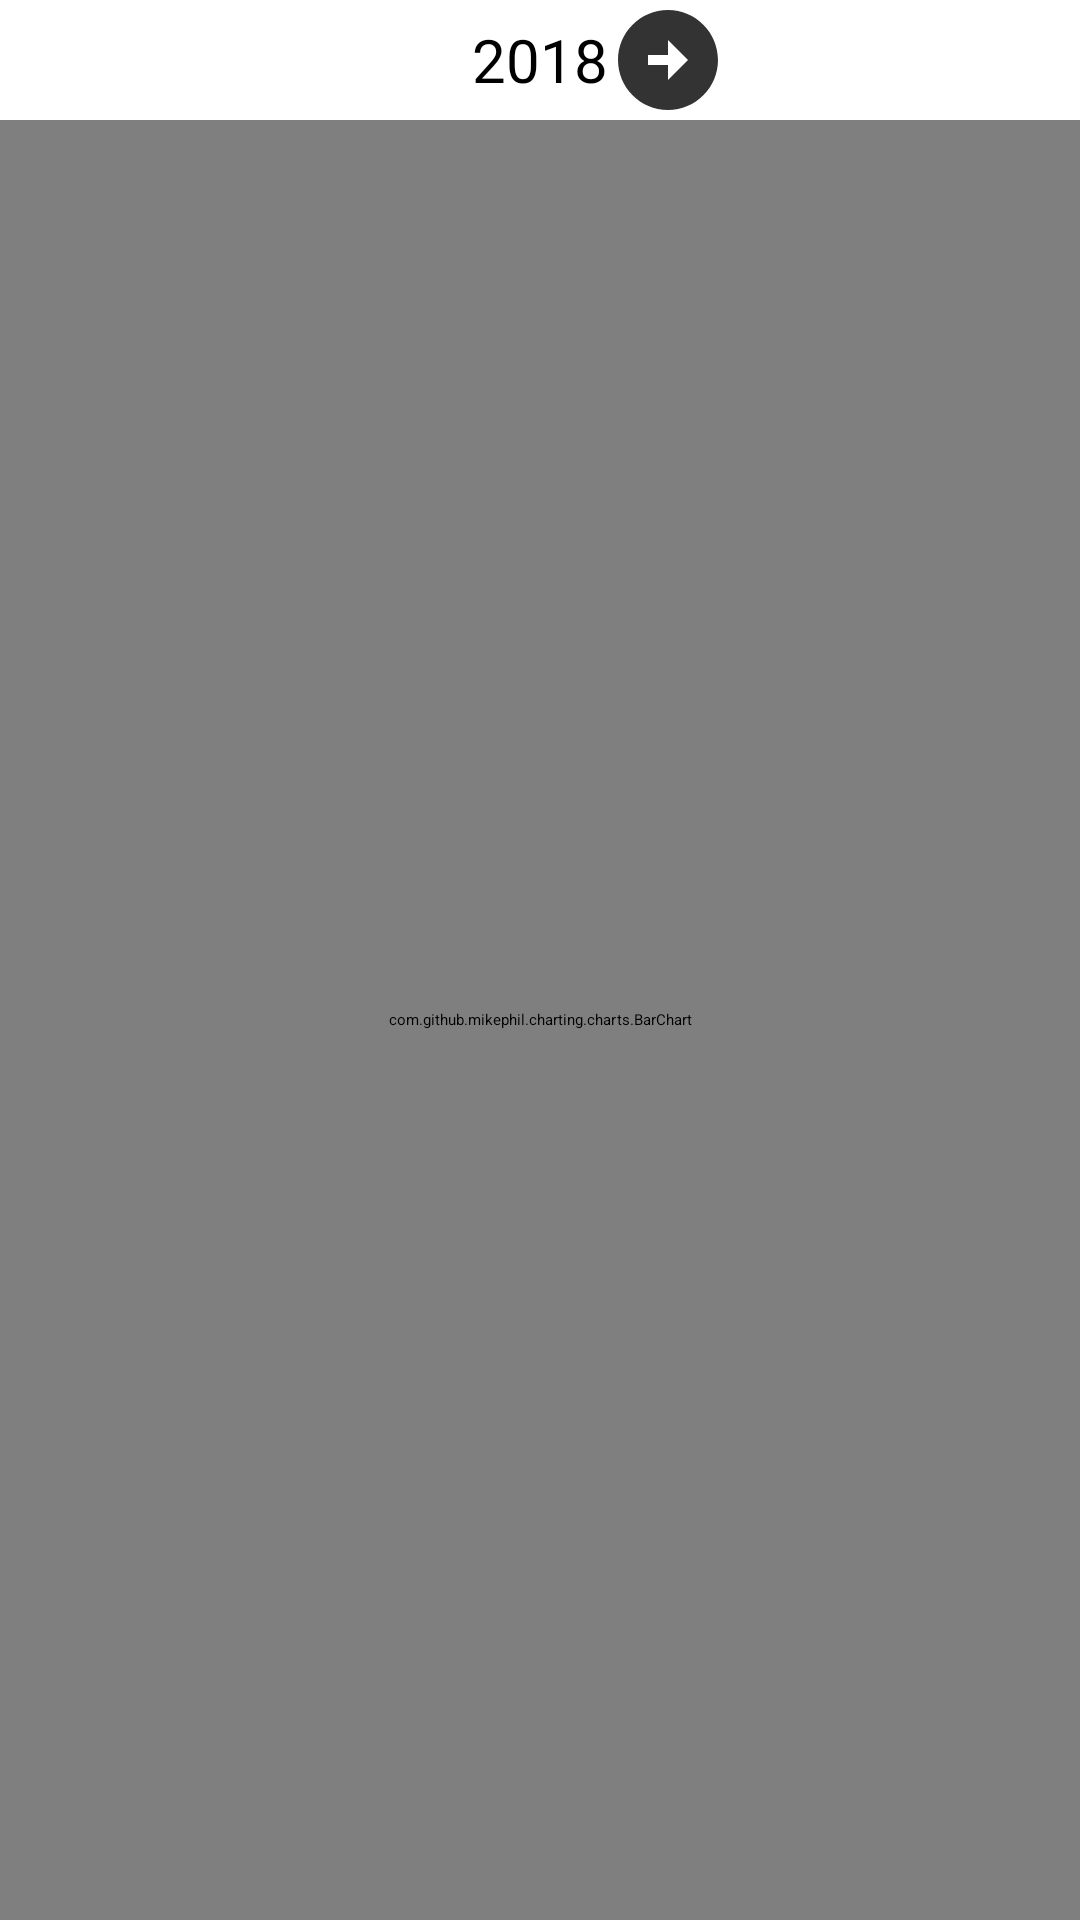

Icons on this 1080x1920 Android screen, each with its box as BBox(x1, y1, x2, y2):
next: BBox(618, 10, 718, 110)
